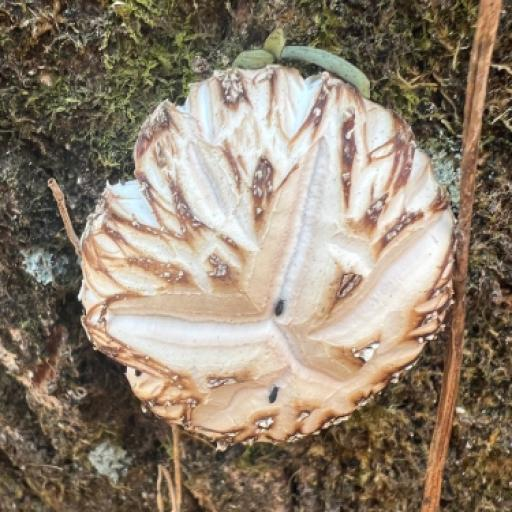Shiitake Mushroom: (46, 23, 502, 483)
